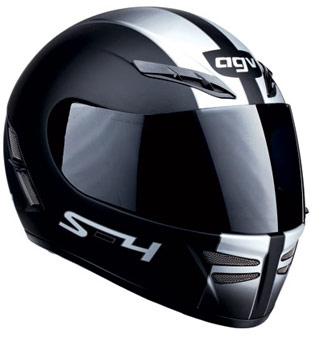helmet: (27, 2, 306, 307)
